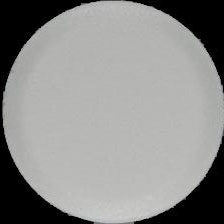53808-0633: (0, 0, 224, 224)
